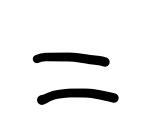eqv: (33, 53, 119, 105)
